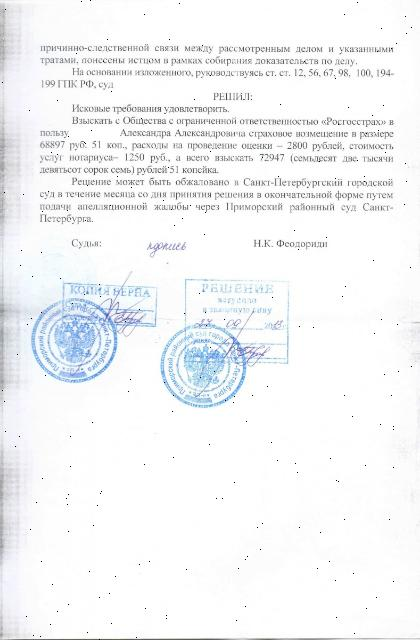stamp: (32, 296, 118, 384), (158, 321, 246, 405)
